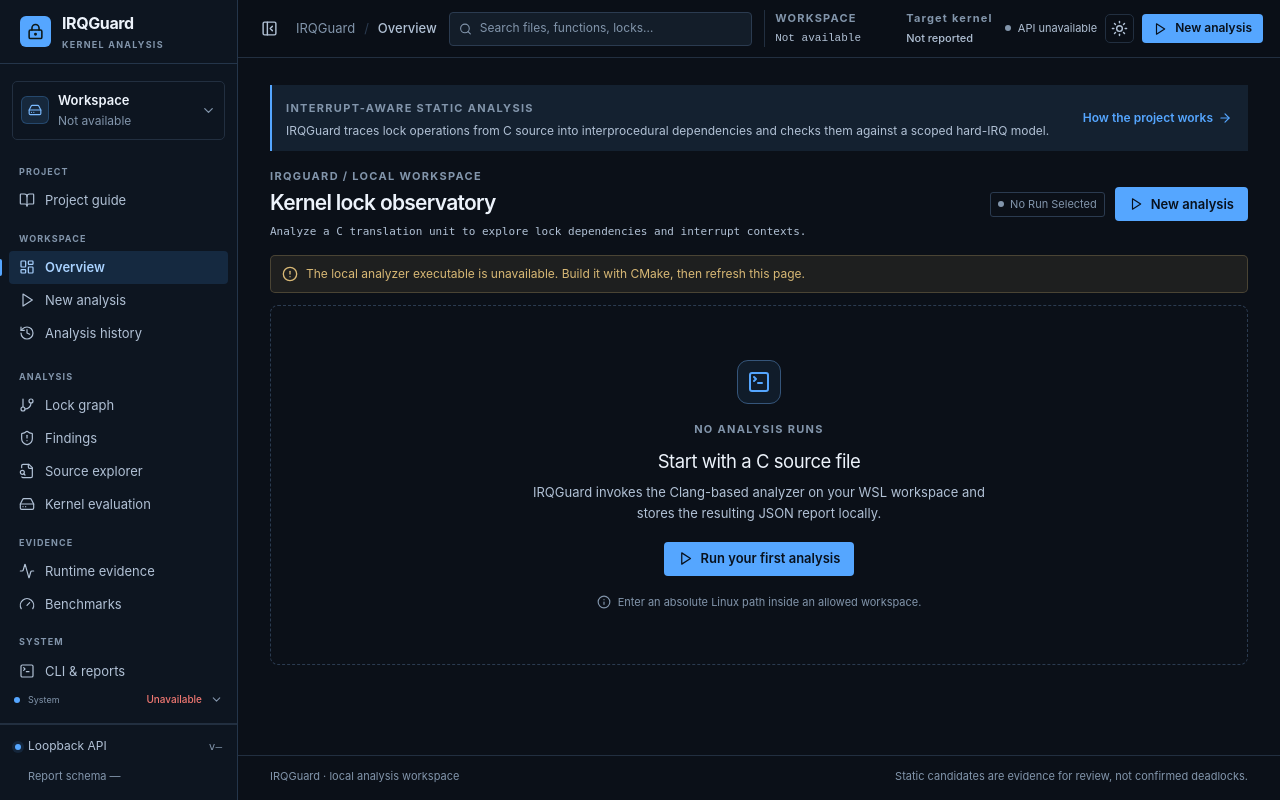
it: IRQGuard workspace states › allows the desktop sidebar to collapse without hiding its navigation controls
The image size is (1280, 800).
What coordinates should you click on to do the following:
click the button named "Collapse sidebar"
I would click on:
 (270, 28)
Its box is [255,14,284,43].
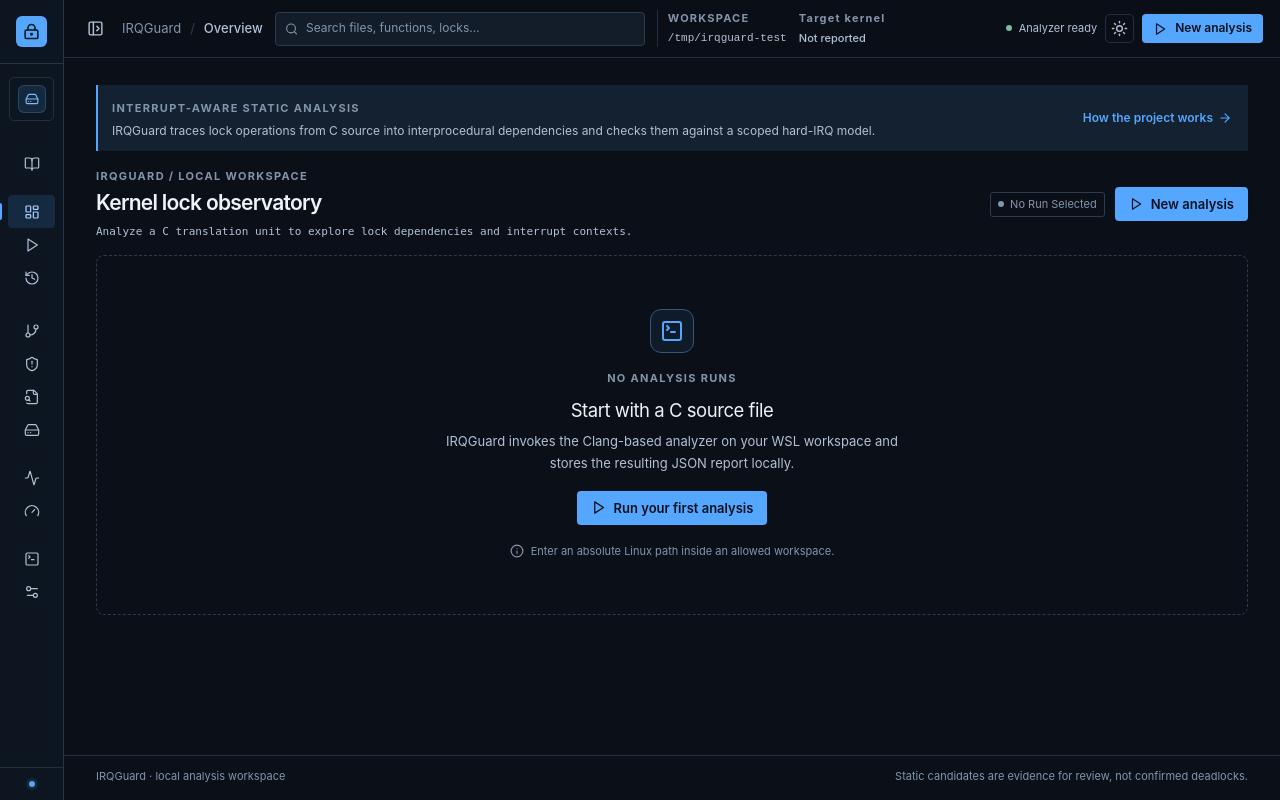
Expected: the button named "Expand sidebar" is shown, [81,14,110,43]
